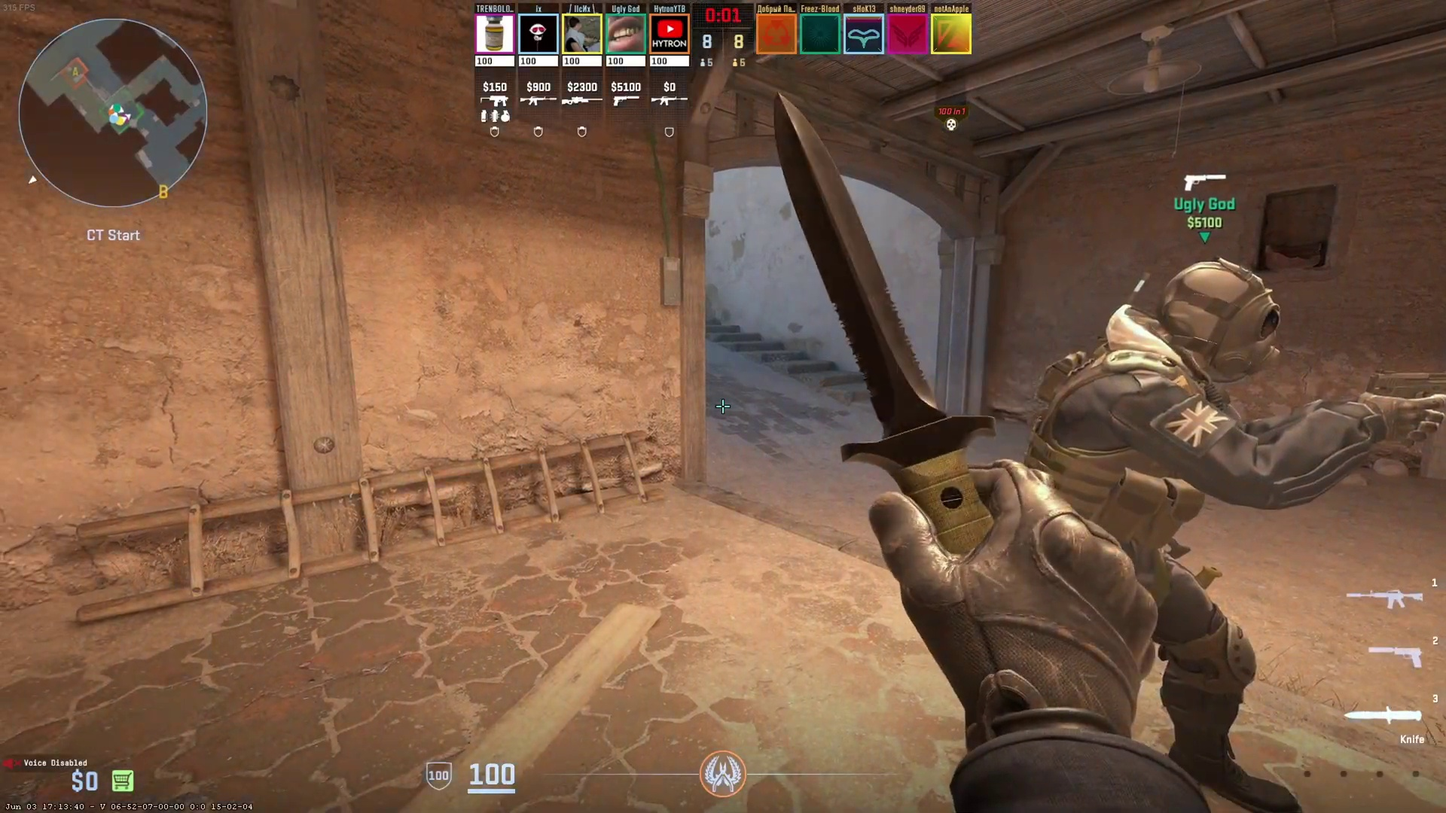CT: (1050, 258, 1289, 776)
